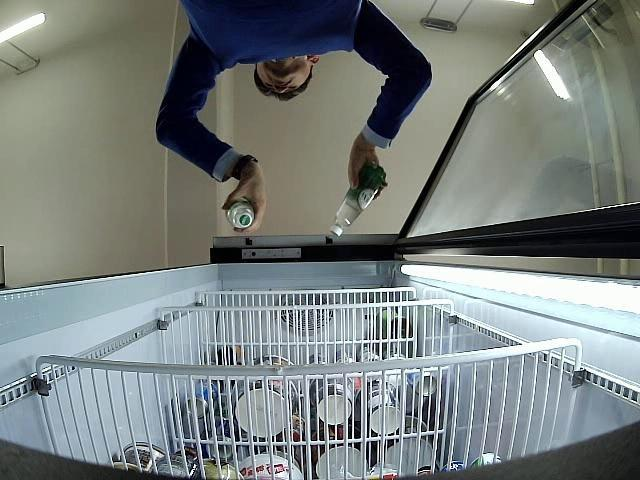18_trevi: (330, 162, 386, 236), (226, 202, 255, 230)
